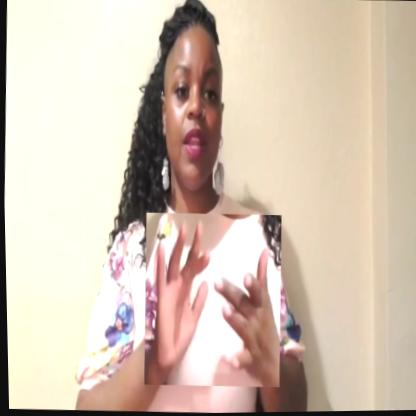Internet: (139, 212, 283, 389)
